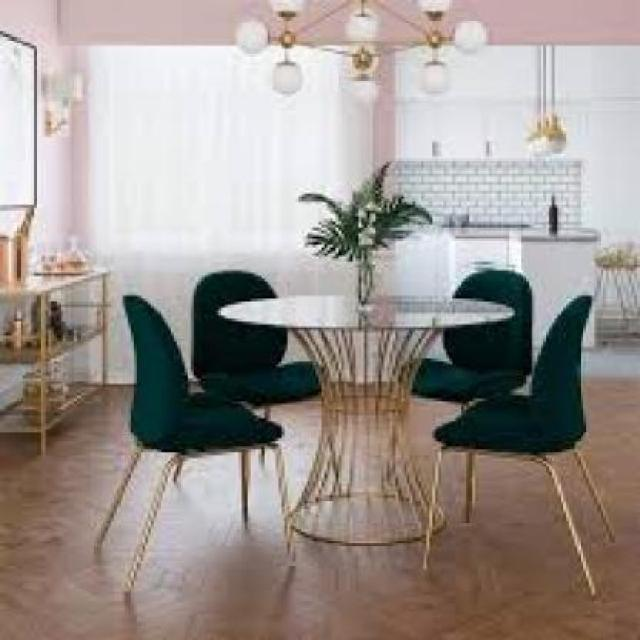tables: (215, 294, 516, 548)
